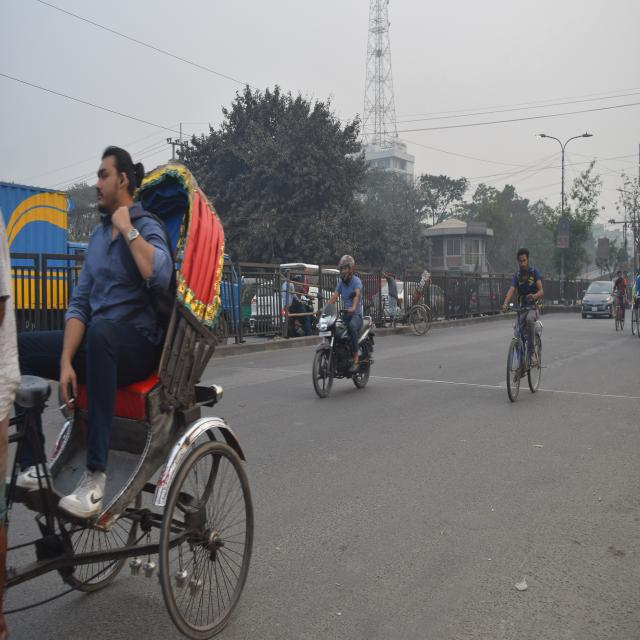car: (583, 283, 616, 321)
motorbike: (308, 256, 377, 405), (277, 264, 319, 342)
pickup-van: (4, 183, 90, 303)
